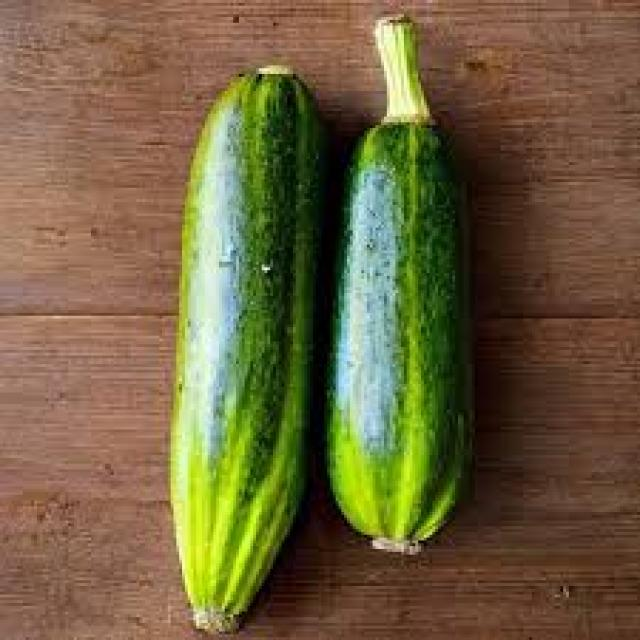Zucchini: (345, 96, 474, 575)
